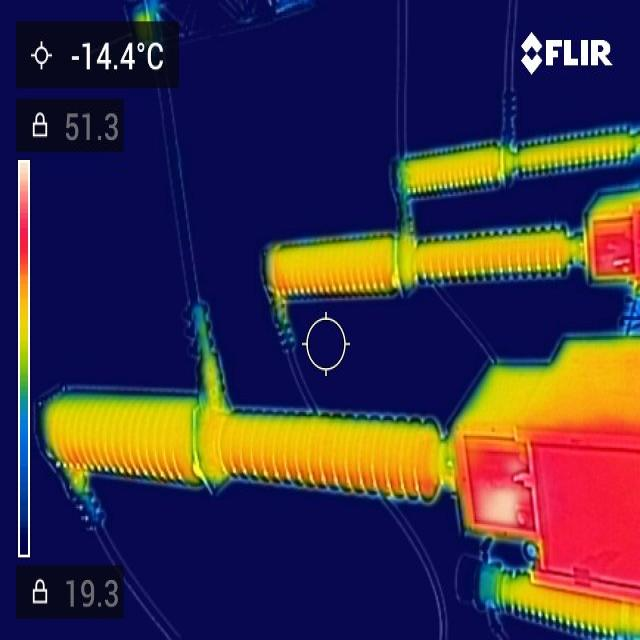Zona_Atenco: (119, 452, 433, 502)
Zona_Critica: (533, 432, 639, 590), (597, 221, 638, 275), (467, 445, 522, 485)
Zona_Extrema: (481, 488, 519, 525)
